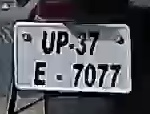0: (81, 63, 97, 88)
3: (74, 30, 88, 58)
7: (86, 29, 103, 56), (96, 61, 111, 88), (110, 59, 122, 88), (70, 62, 83, 87)
E: (32, 57, 51, 88)
P: (54, 29, 70, 57)
U: (40, 28, 56, 55)
